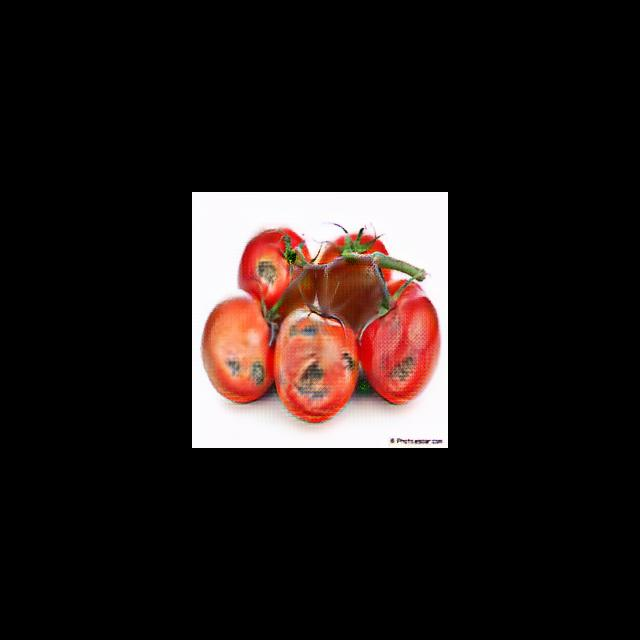tomato: (274, 308, 360, 422), (362, 281, 441, 404), (202, 298, 274, 401), (239, 230, 312, 308)
